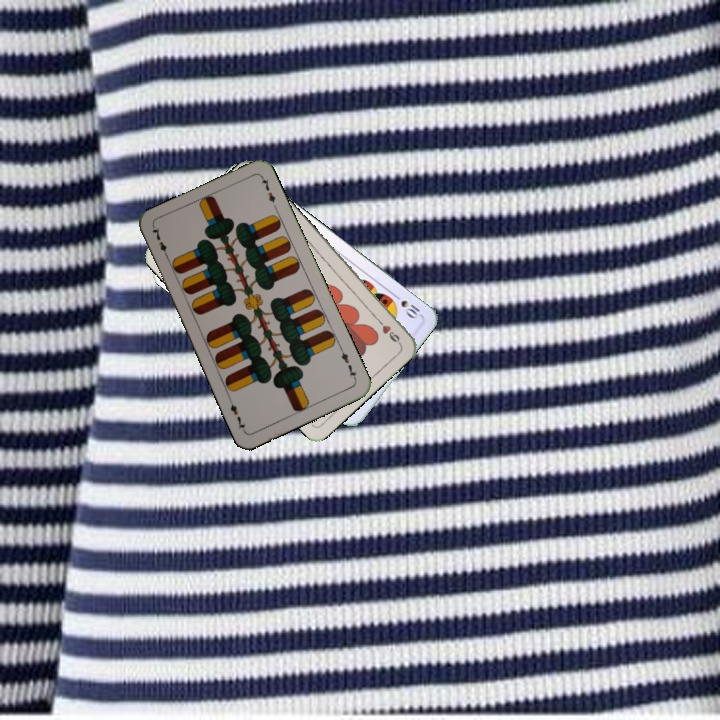E7: (148, 223, 172, 262), (336, 345, 359, 383)
H9: (372, 314, 403, 347)
S10: (389, 289, 423, 321)
